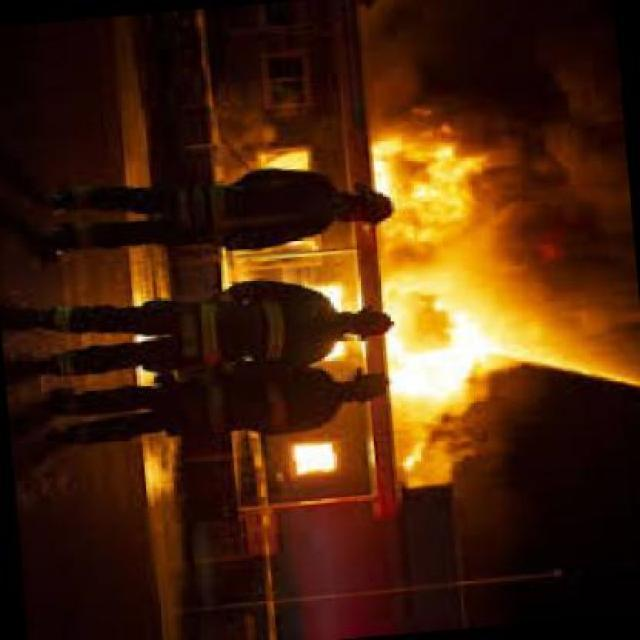Fire: (391, 273, 532, 407), (371, 126, 484, 231)
Smoke: (358, 4, 640, 121), (487, 128, 640, 266), (538, 276, 640, 377)
